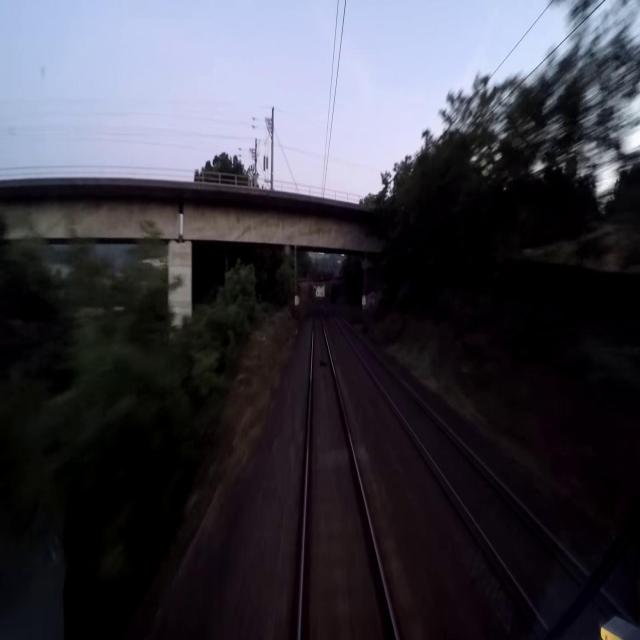rail-track: (332, 310, 582, 603), (301, 311, 395, 639)
